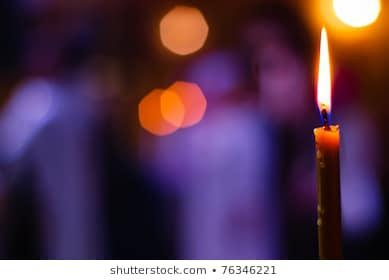fire: (312, 19, 332, 115)
